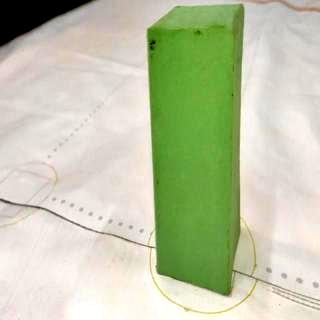greenbox: (146, 5, 245, 297)
